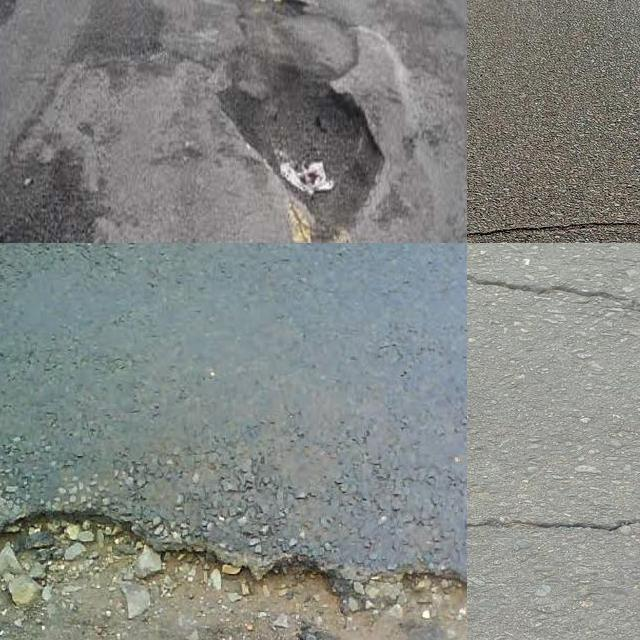Lubang: (218, 59, 388, 237)
Melintang: (0, 488, 467, 621), (467, 267, 640, 327), (467, 509, 640, 553), (467, 206, 640, 243)
